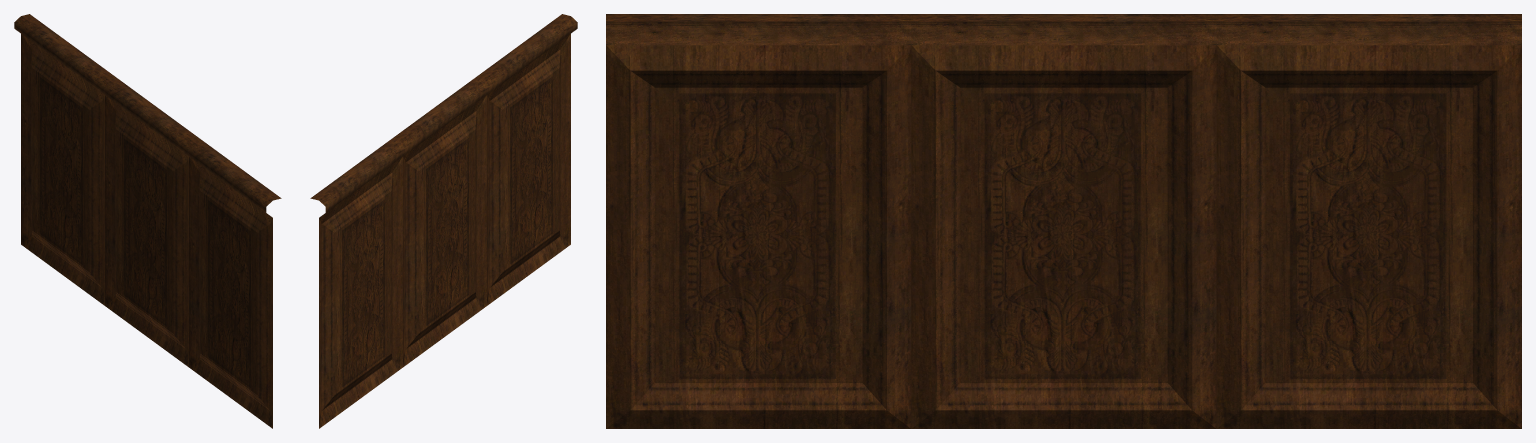
Rendered from wood_panneling_medium.DAE.
3 renders of one model, left to right at view 1: azimuth 30°, elevation 25°; view 2: azimuth 150°, elevation 25°; view 3: azimuth 270°, elevation 25°, orthographic. The views are drawn at different scales.
Parts seen in each view (by area): view 1: Box027; view 2: Box027; view 3: Box027.
Part boxes in pixels (x1=…): Box027: x1=14, y1=14, x2=281, y2=428; Box027: x1=310, y1=14, x2=577, y2=428; Box027: x1=606, y1=14, x2=1521, y2=428.
Size of the model in its own units: 0.1061 by 1.5 by 3.
